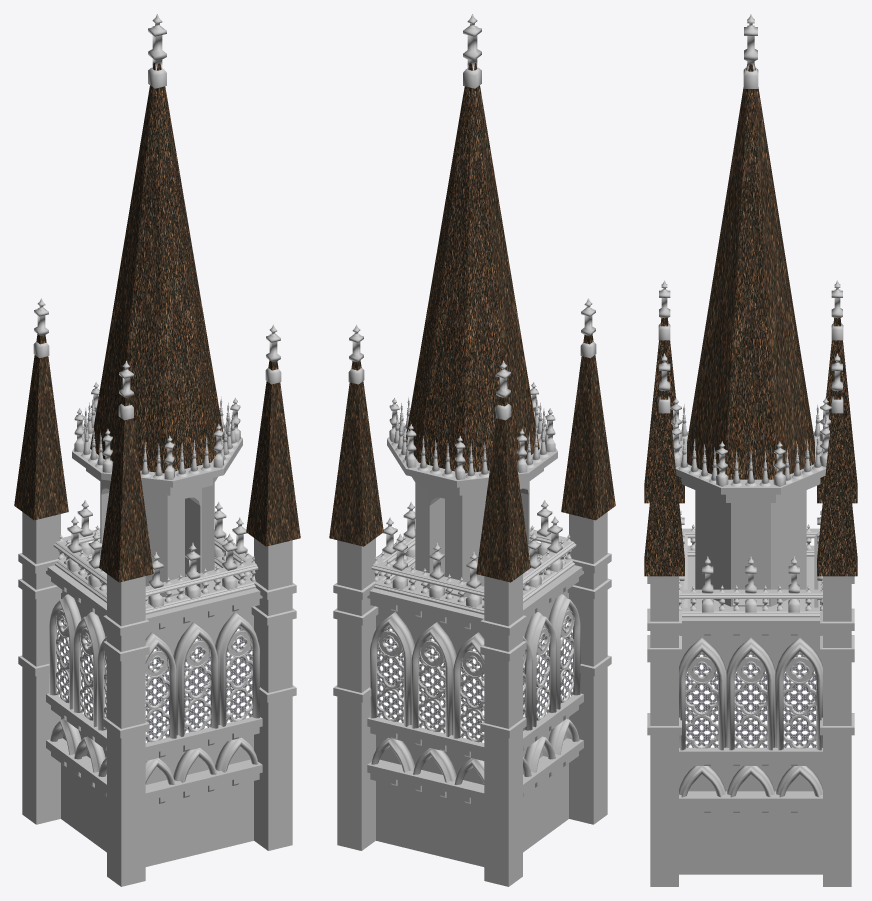
Rendered from SM_ModularTowerTop-2.fbx.
3 renders of one model, left to right at view 1: azimuth 30°, elevation 25°; view 2: azimuth 150°, elevation 25°; view 3: azimuth 270°, elevation 25°, orthographic.
Visible parts, largest first — view 1: SM_ModularTowerTop-2_LOD0; view 2: SM_ModularTowerTop-2_LOD0; view 3: SM_ModularTowerTop-2_LOD0.
Part boxes in pixels (bbox=[...]): SM_ModularTowerTop-2_LOD0: bbox=[14, 14, 300, 886]; SM_ModularTowerTop-2_LOD0: bbox=[329, 14, 615, 886]; SM_ModularTowerTop-2_LOD0: bbox=[644, 14, 857, 886].
Size of the model in its own units: 741 by 741 by 3180.
